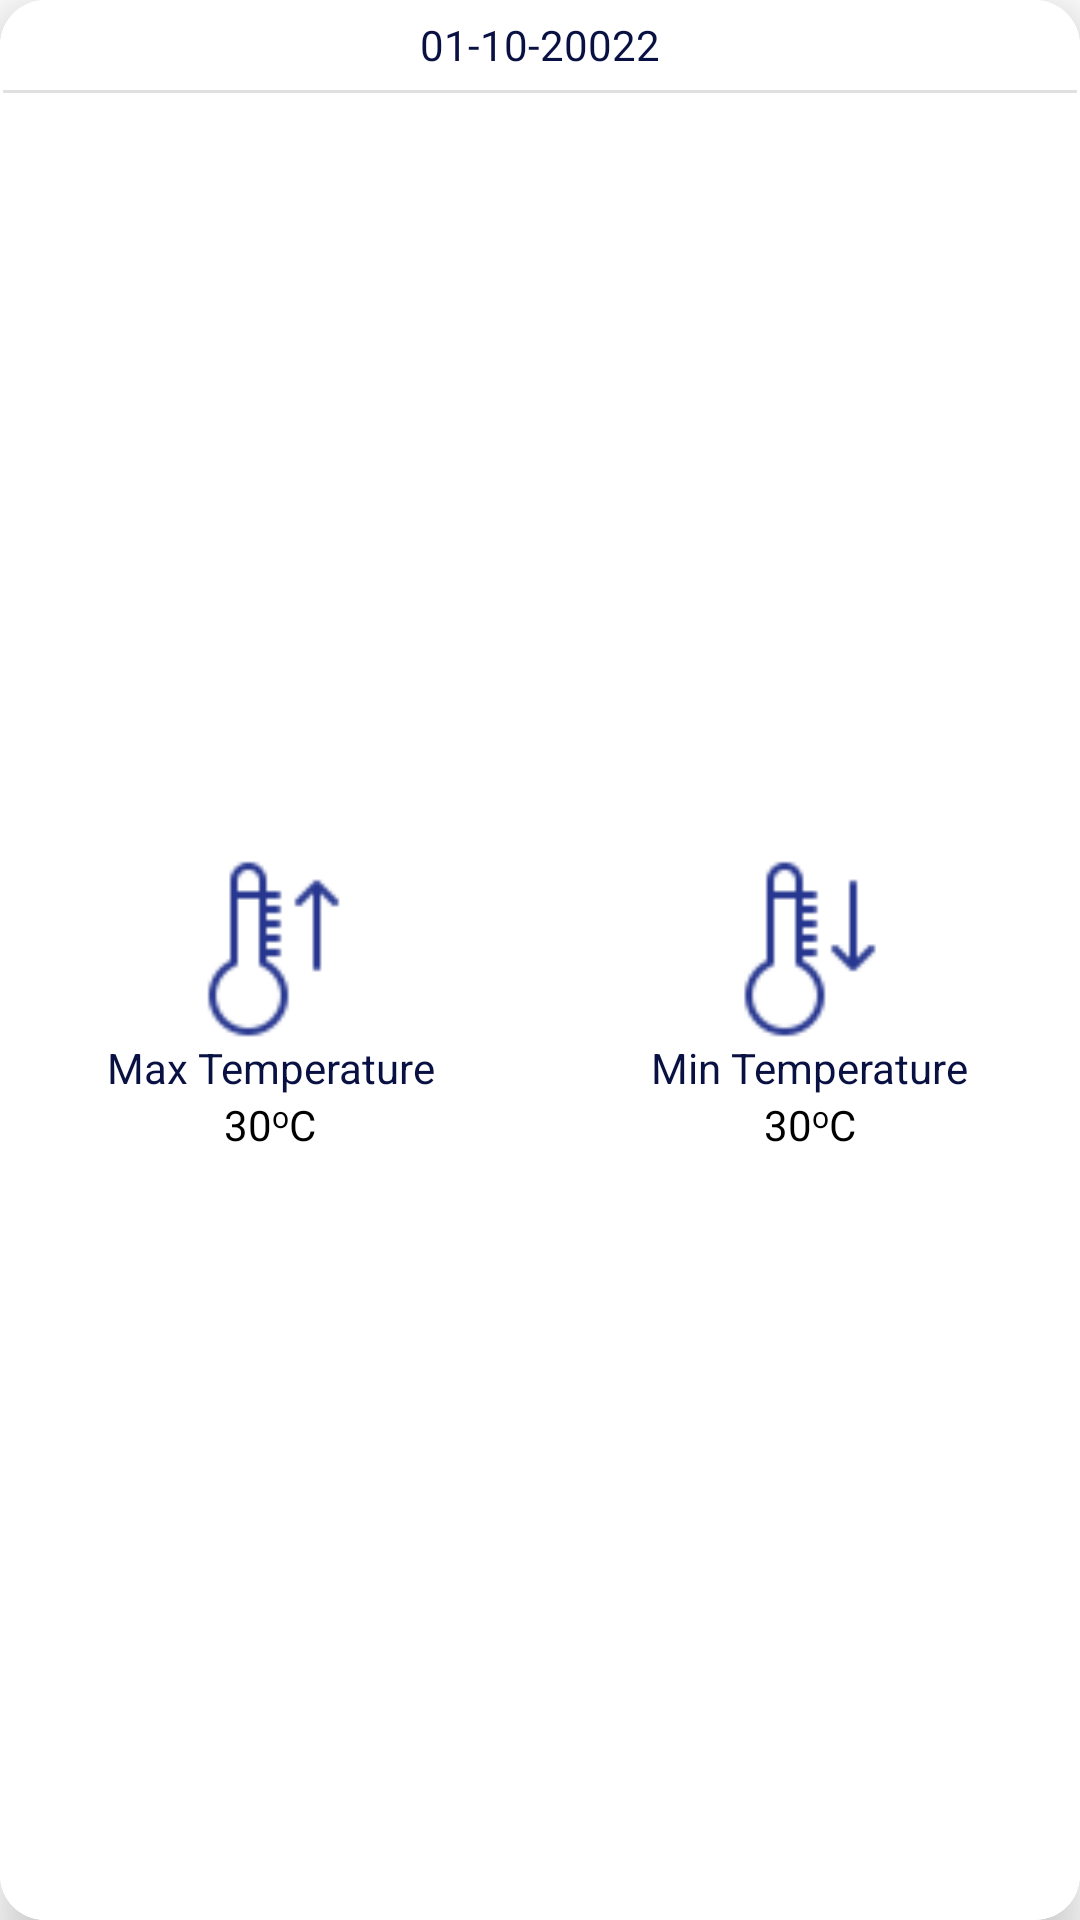

Icon click points for this 1080px x 1920px phone screenshot, format [x,y]:
thermometer down: [810,949]
thermometer up: [273,949]
